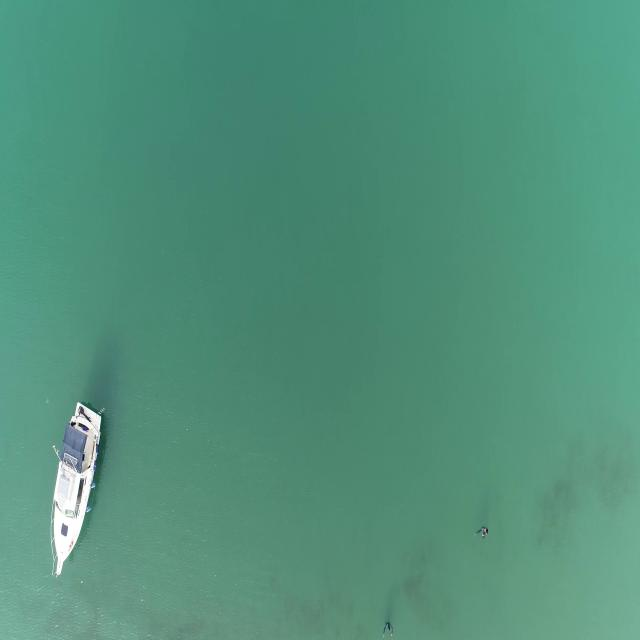boat: (46, 401, 107, 579)
person: (475, 520, 490, 544), (381, 623, 395, 639)
